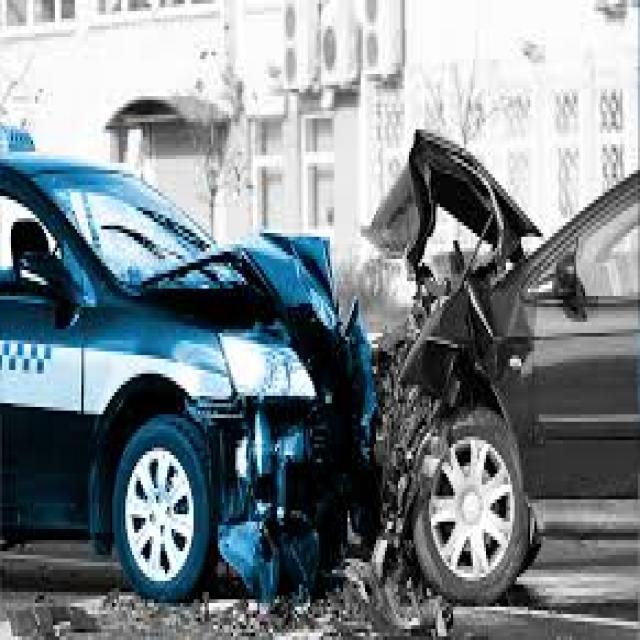accident: (2, 118, 640, 603)
